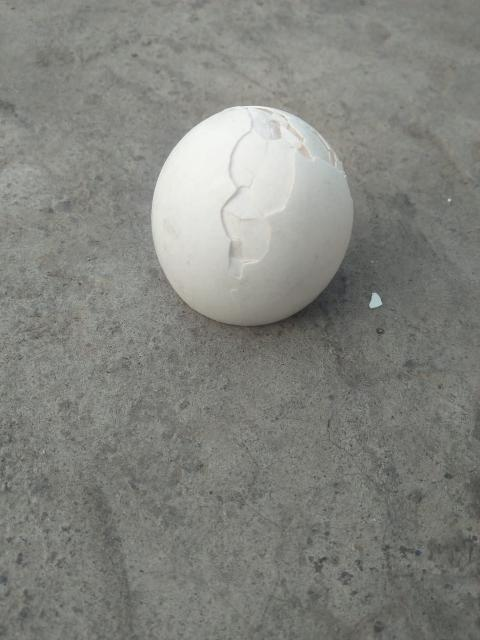Roto: (150, 104, 354, 327)
